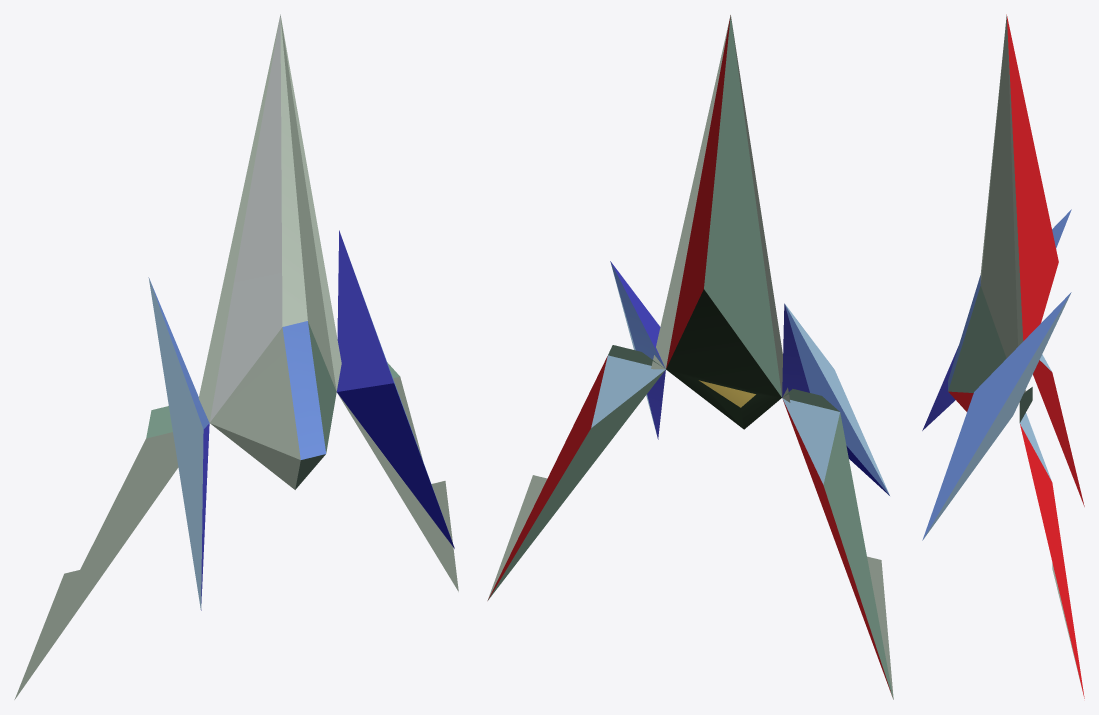
File: test_ship.obj
3 views of the same model, side by side, from view 1: azimuth 30°, elevation 25°; view 2: azimuth 150°, elevation 25°; view 3: azimuth 270°, elevation 25° (orthographic). The views are drawn at different scales.
Parts seen in each view (by area): view 1: player_ship; view 2: player_ship; view 3: player_ship.
Part boxes in pixels (x1=…): player_ship: x1=14, y1=14, x2=458, y2=699; player_ship: x1=487, y1=15, x2=893, y2=699; player_ship: x1=922, y1=14, x2=1084, y2=698.
Size of the model in its own units: 16.93 by 24.18 by 6.05.
13 materials, 13 textured.
